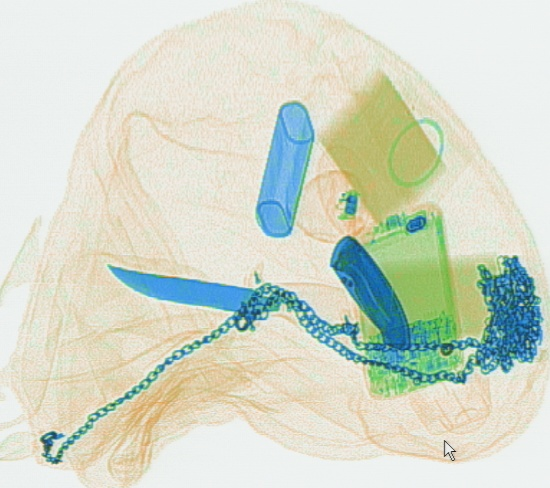knife: (107, 260, 365, 338), (323, 230, 415, 349)
